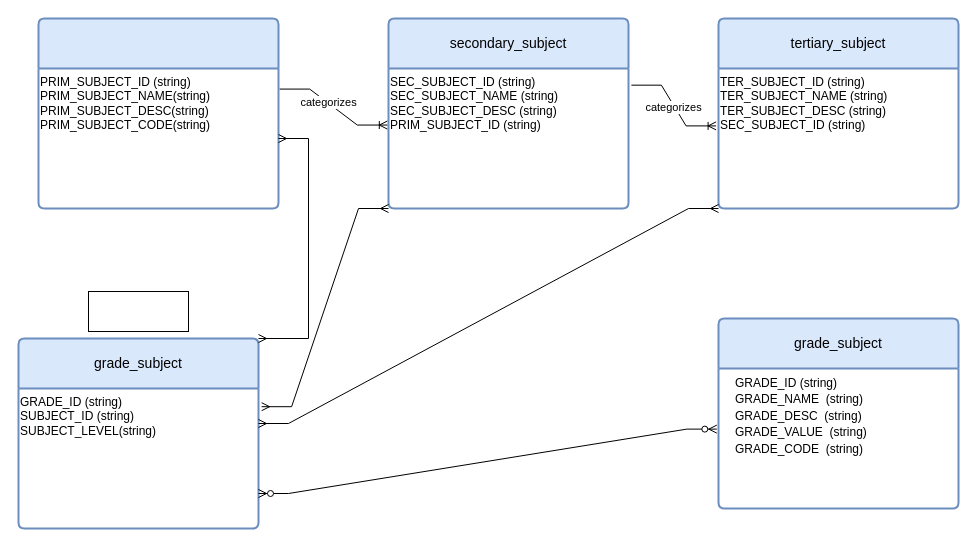
Image size: 976x546. Some labels were removed from this diagram. The box of each missing label's shape, as (x1, y1, x2, y2) in pixels:
Categorize: (88, 290, 188, 332)
primary_subject: (37, 17, 279, 209)
